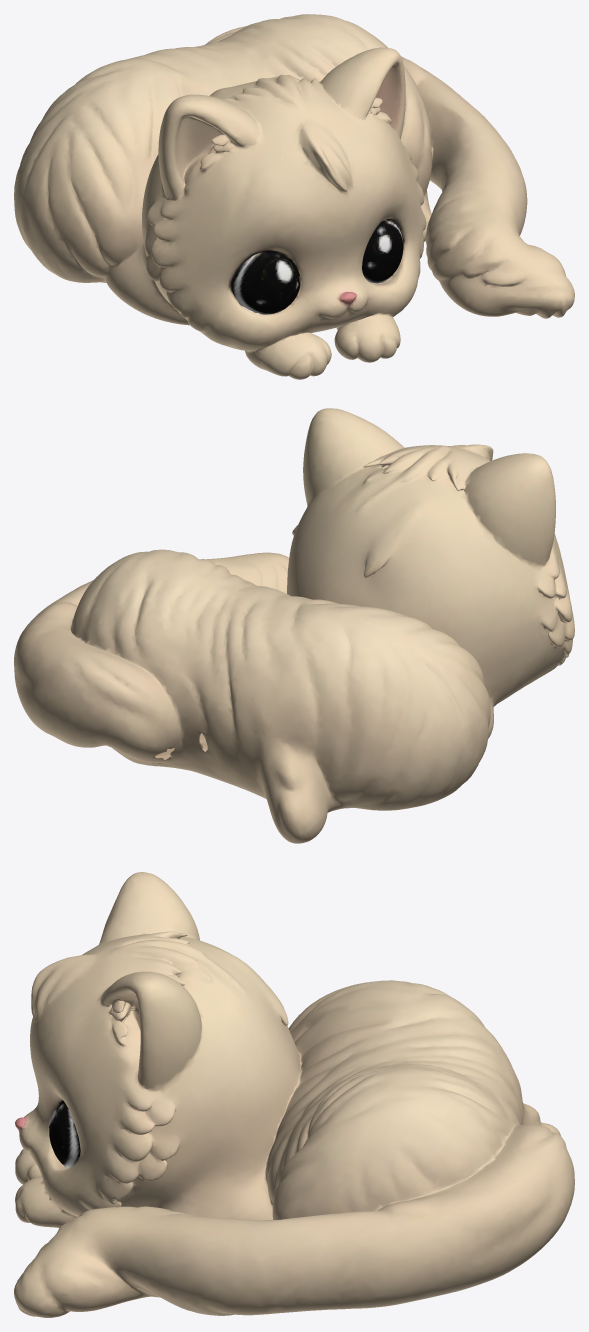
Rendered from chat_trellis.glb.
3 renders of one model, top to bottom at view 1: azimuth 30°, elevation 25°; view 2: azimuth 150°, elevation 25°; view 3: azimuth 270°, elevation 25°, orthographic. The views are drawn at different scales.
Visible parts, largest first — view 1: world; view 2: world; view 3: world.
Part boxes in pixels (<box>): world: <box>14,14,574,379</box>; world: <box>14,408,574,843</box>; world: <box>14,872,574,1317</box>.
Size of the model in its own units: 0.9584 by 0.546 by 1.
Materials: 1 (1 with a texture image).
